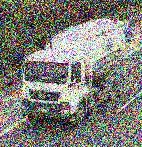truck: (21, 19, 126, 127)
